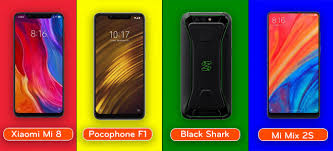mi: (9, 10, 68, 118), (88, 11, 147, 119), (178, 12, 237, 120), (267, 8, 326, 116)
